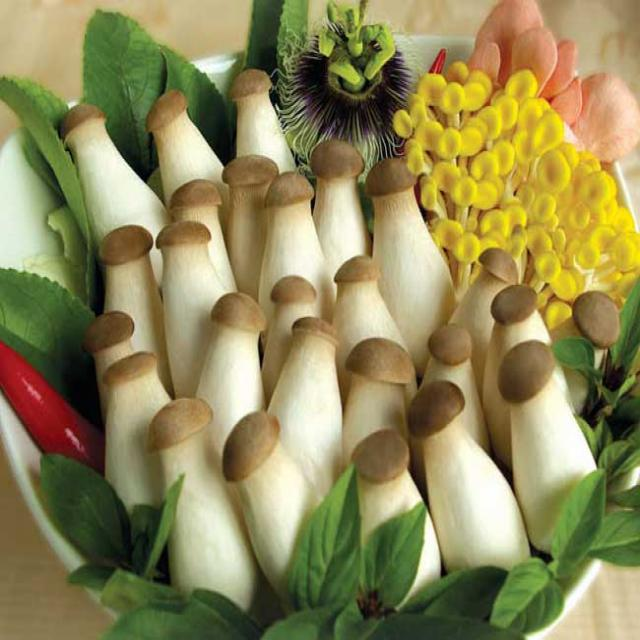Pleurotus eryngii: (69, 78, 591, 603)
